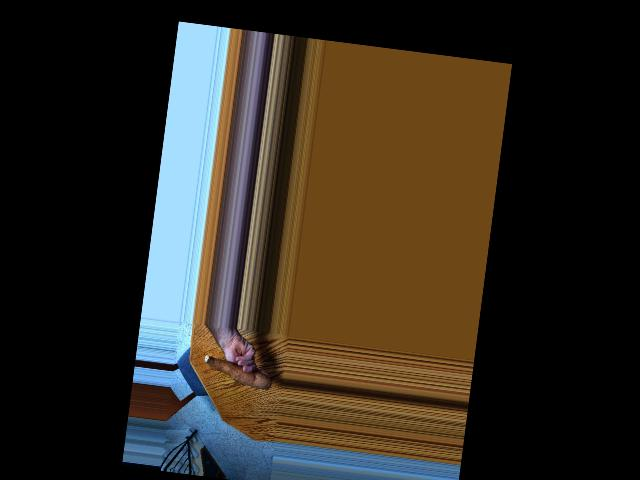sweet_potato: (200, 352, 275, 391)
